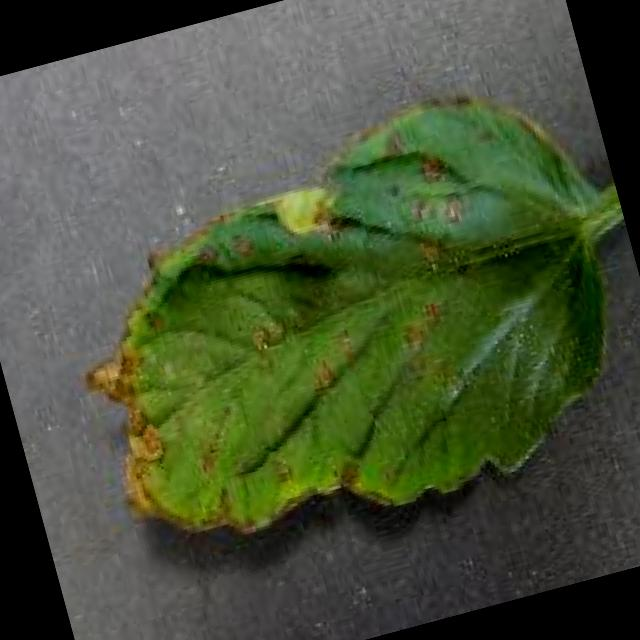bacterial spot: (87, 109, 623, 541)
